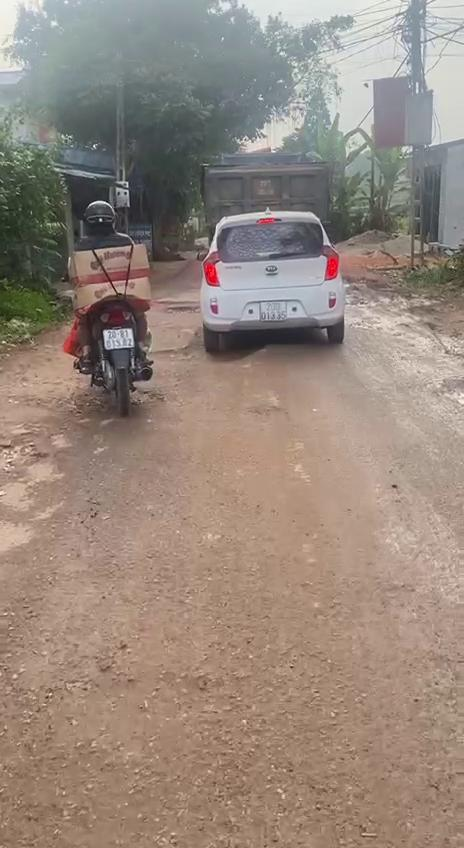pothole: (0, 439, 48, 477), (146, 340, 204, 366)
